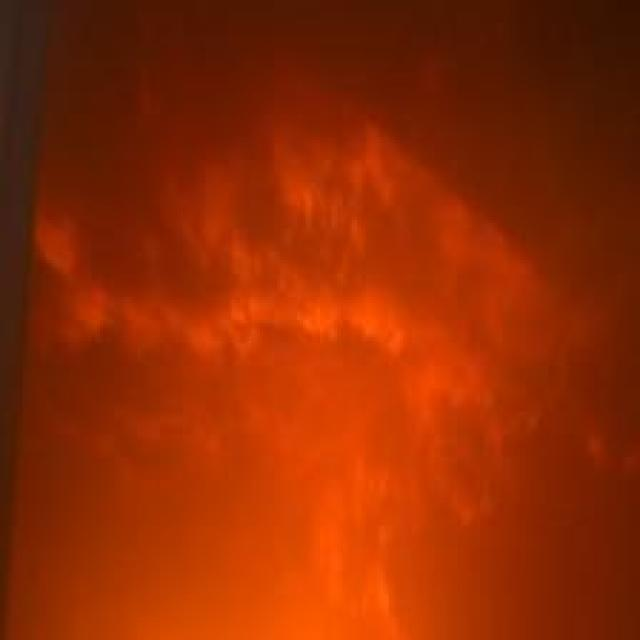fire: (25, 104, 564, 616)
